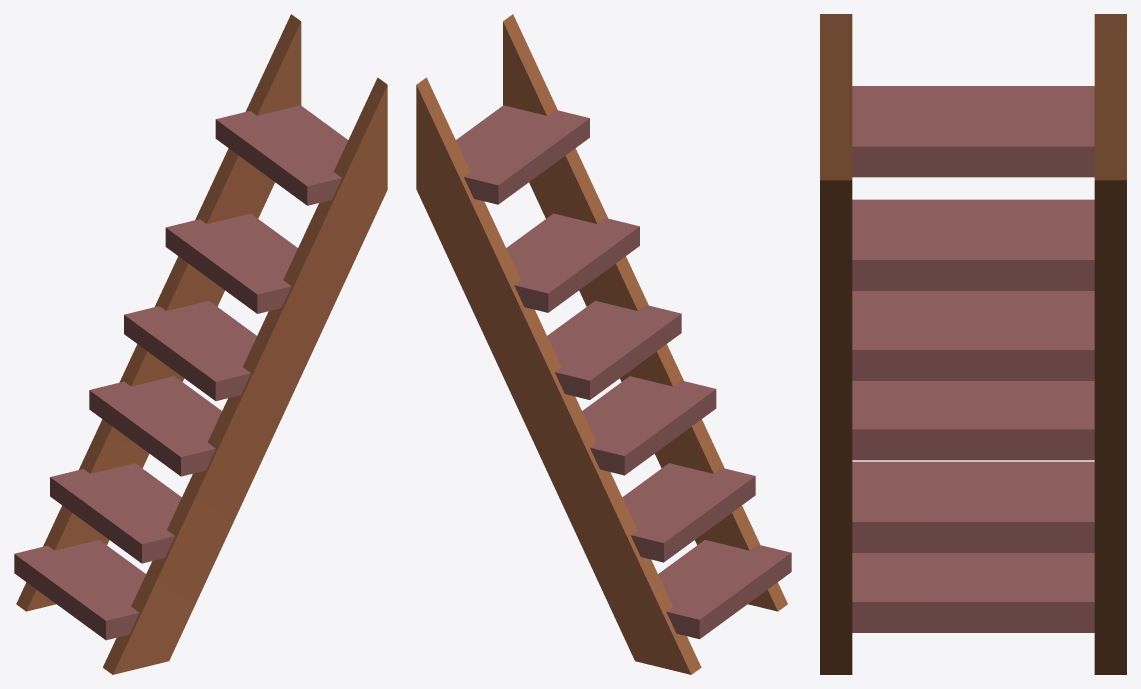
The model's file is stairs.fbx.
3 views of the same model, side by side, from view 1: azimuth 30°, elevation 25°; view 2: azimuth 150°, elevation 25°; view 3: azimuth 270°, elevation 25° (orthographic). The views are drawn at different scales.
Visible parts, largest first — view 1: pCube37; view 2: pCube37; view 3: pCube37.
Part boxes in pixels (<box>): pCube37: <box>14,14,387,674</box>; pCube37: <box>416,14,791,674</box>; pCube37: <box>820,14,1126,674</box>.
Size of the model in its own units: 4.65 by 8.3 by 2.78.
